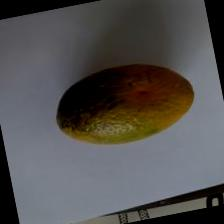Orange Rotten: (43, 43, 207, 163)
